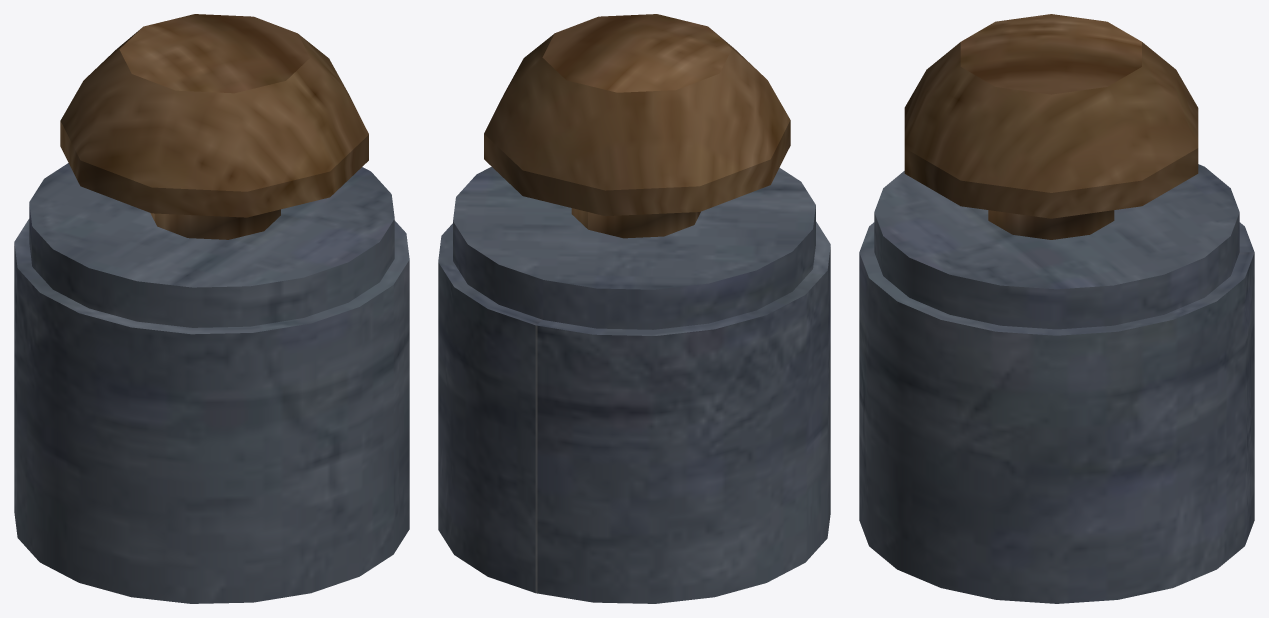
The model's file is button02.glb.
3 views of the same model, side by side, from view 1: azimuth 30°, elevation 25°; view 2: azimuth 150°, elevation 25°; view 3: azimuth 270°, elevation 25° (orthographic).
Parts seen in each view (by area): view 1: Button02; view 2: Button02; view 3: Button02.
Boxes of the visible parts, x1=… form: Button02: x1=14, y1=14, x2=409, y2=603; Button02: x1=438, y1=14, x2=830, y2=603; Button02: x1=859, y1=14, x2=1254, y2=603.
Bounding box in the file's own units: 0.5855 × 0.7852 × 0.5855.
2 materials, 2 textured.
